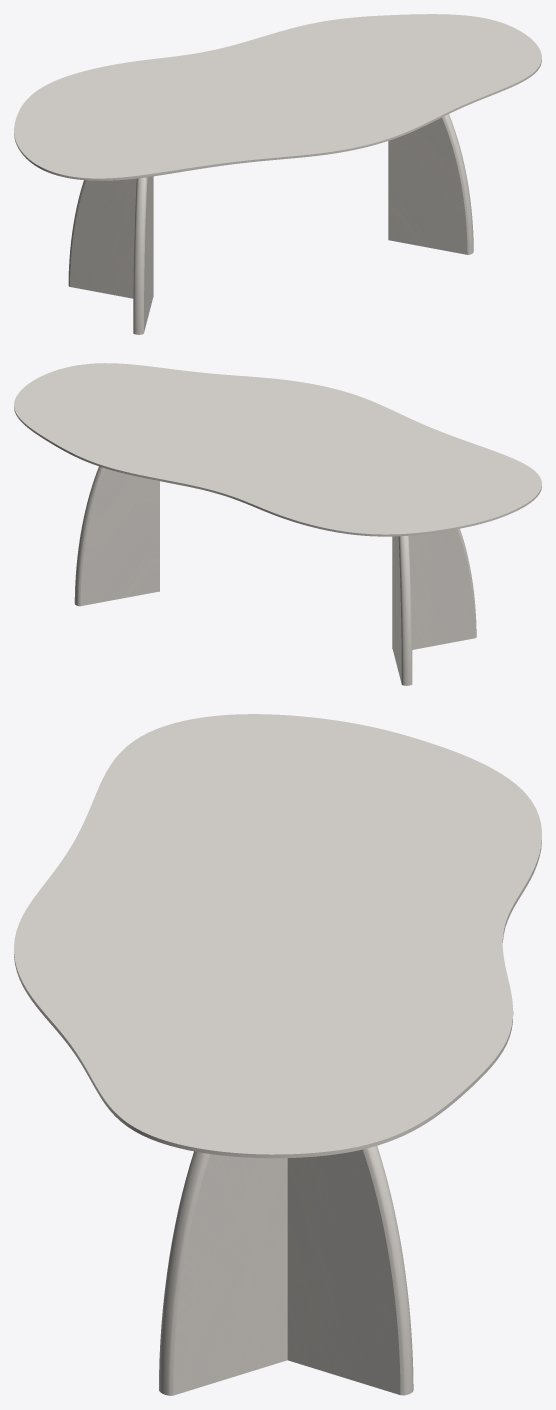
The model's file is pearlwhite_toplast_facet_newtable2.glb.
The picture shows the model from 3 angles, top to bottom: view 1: azimuth 30°, elevation 25°; view 2: azimuth 150°, elevation 25°; view 3: azimuth 270°, elevation 25°; orthographic projection. The views are drawn at different scales.
Visible parts, largest first — view 1: facet_toplast, newtable2_singleright2, newtable2_singleleft1, newtable2_singleright1; view 2: facet_toplast, newtable2_singleleft2, newtable2_singleright1, newtable2_singleleft1; view 3: facet_toplast, newtable2_singleright2, newtable2_singleleft2.
Part boxes in pixels (x1,y1,x2,y2): facet_toplast: (14,14,541,180); newtable2_singleright2: (388,114,473,254); newtable2_singleleft1: (68,176,153,298); newtable2_singleright1: (133,176,153,334); facet_toplast: (14,363,541,536); newtable2_singleleft2: (74,466,158,606); newtable2_singleright1: (392,528,476,649); newtable2_singleleft1: (392,535,412,685); facet_toplast: (14,714,541,1158); newtable2_singleright2: (159,1151,287,1395); newtable2_singleleft2: (287,1146,413,1395).
Size of the model in its own units: 7.5 by 2.49 by 3.8.
Materials: 1 (1 with a texture image).
